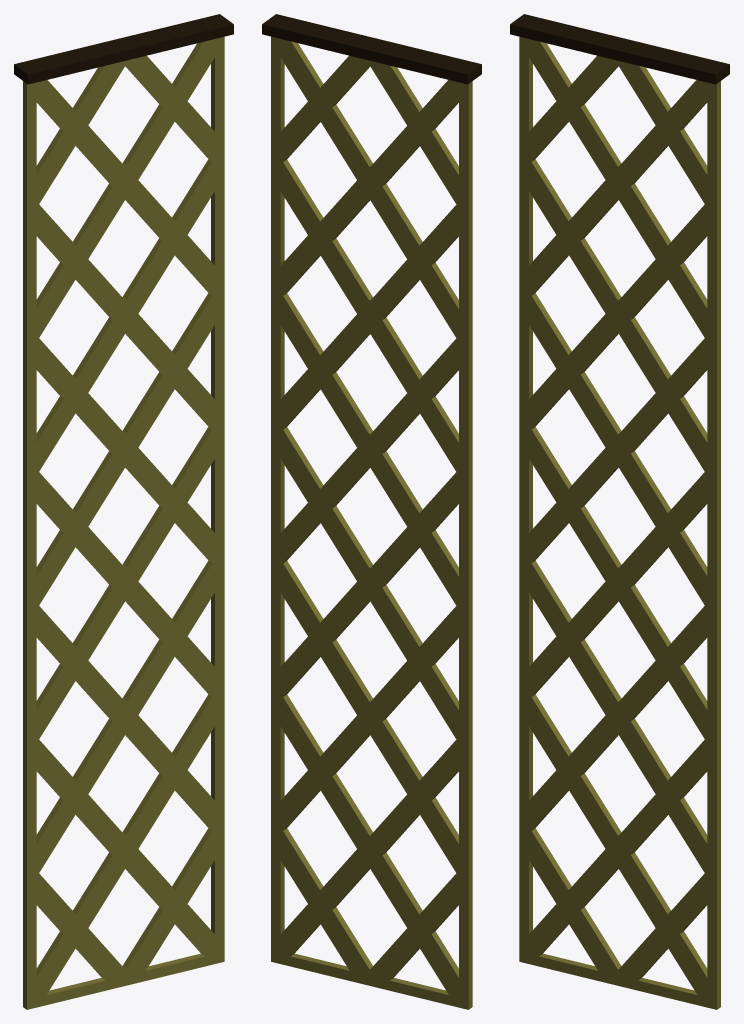
Rendered from Reja_B.fbx.
The picture shows the model from 3 angles, left to right: view 1: azimuth 30°, elevation 25°; view 2: azimuth 150°, elevation 25°; view 3: azimuth 330°, elevation 25°; orthographic projection.
Visible parts, largest first — view 1: Reja_B; view 2: Reja_B; view 3: Reja_B.
Part boxes in pixels (x1,y1,x2,y2): Reja_B: (14,14,233,1009); Reja_B: (262,14,481,1009); Reja_B: (510,14,729,1009).
Bounding box in the file's own units: 1.5 × 6.53 × 0.1771.
